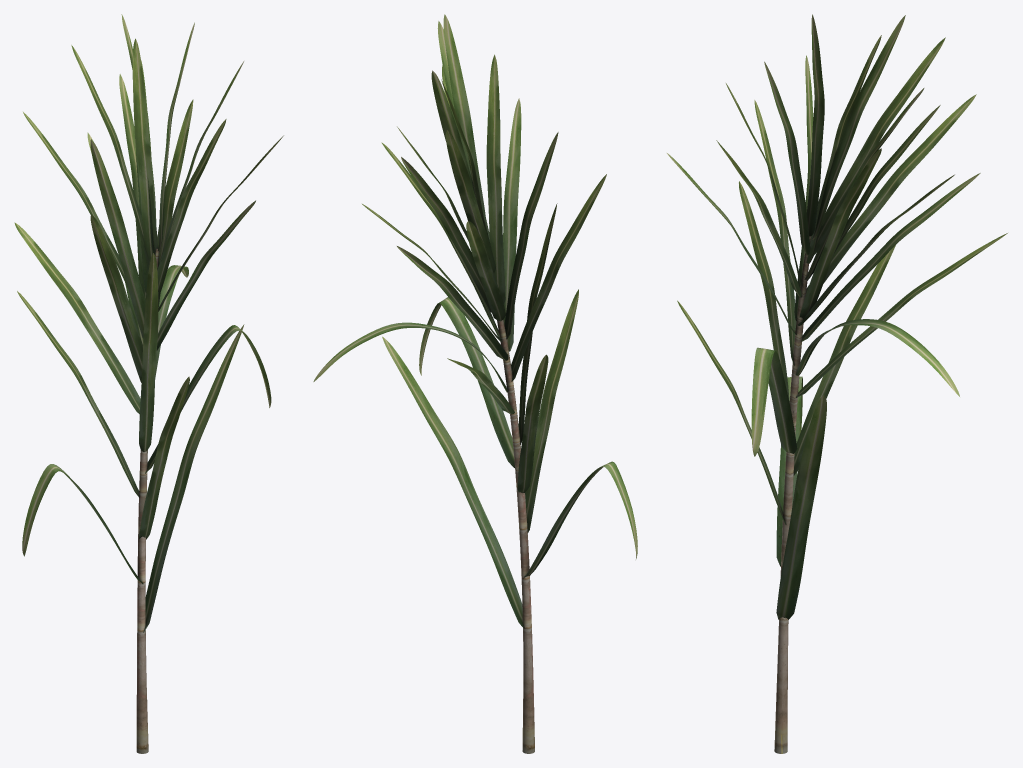
Rendered from Sugar_Cane.obj.
3 views of the same model, side by side, from view 1: azimuth 30°, elevation 25°; view 2: azimuth 150°, elevation 25°; view 3: azimuth 270°, elevation 25° (orthographic). The views are drawn at different scales.
Visible parts, largest first — view 1: 10454_Sugarcane_Field_v1_SG; view 2: 10454_Sugarcane_Field_v1_SG; view 3: 10454_Sugarcane_Field_v1_SG.
Boxes of the visible parts, bbox=[...] form: 10454_Sugarcane_Field_v1_SG: bbox=[14, 14, 283, 753]; 10454_Sugarcane_Field_v1_SG: bbox=[313, 14, 637, 753]; 10454_Sugarcane_Field_v1_SG: bbox=[667, 14, 1007, 753].
Size of the model in its own units: 77.04 by 218 by 87.43.
1 material, 1 textured.
